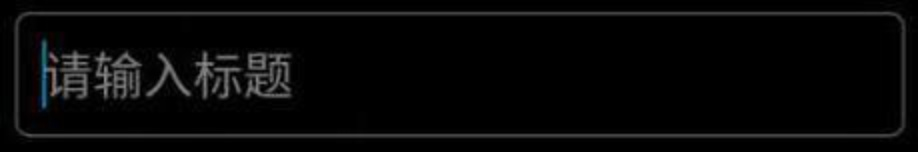EditText: (1, 1, 917, 151)
